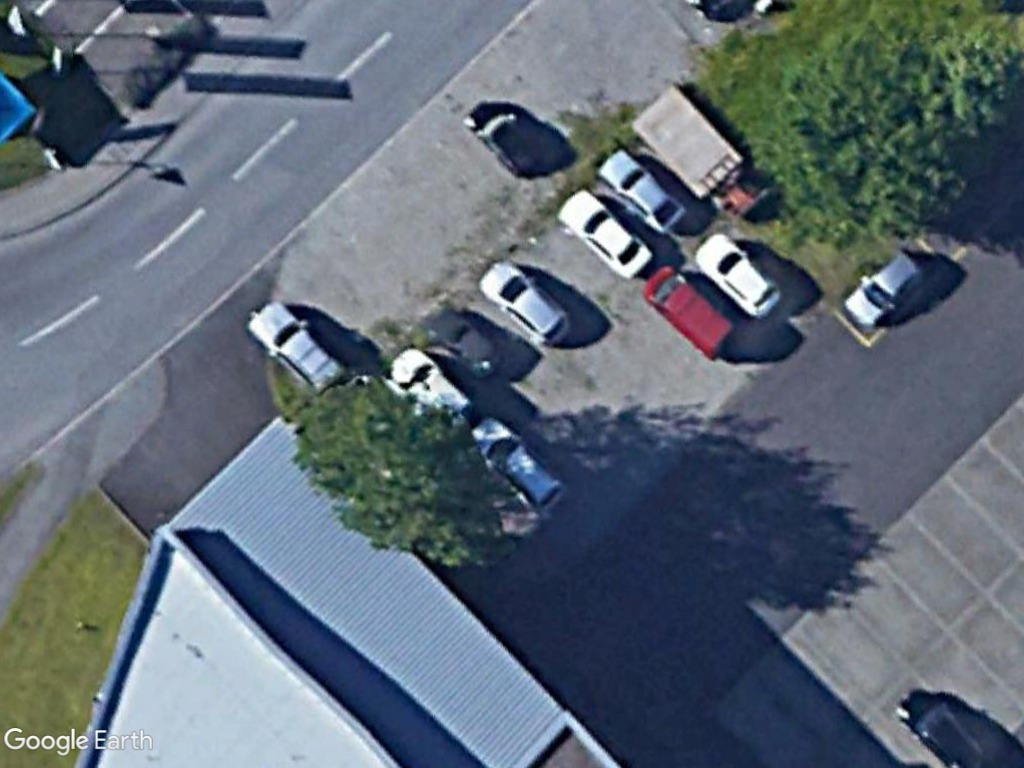car: (552, 186, 655, 280), (246, 299, 346, 392), (476, 259, 575, 350), (691, 227, 787, 318), (593, 148, 684, 235), (840, 249, 922, 335)
truck: (626, 86, 769, 222)
van: (639, 263, 735, 358)
